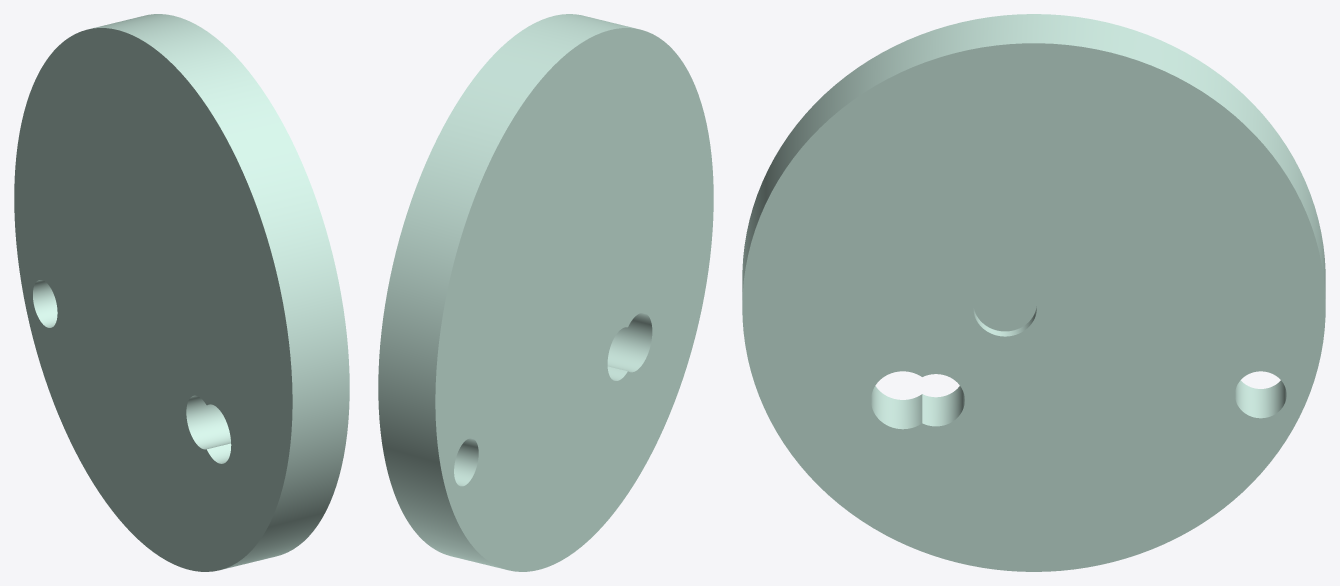
3 renders of one model, left to right at view 1: azimuth 30°, elevation 25°; view 2: azimuth 150°, elevation 25°; view 3: azimuth 270°, elevation 25°, orthographic. The views are drawn at different scales.
Parts seen in each view (by area): view 1: Renderer Node; view 2: Renderer Node; view 3: Renderer Node.
Part boxes in pixels (x1,y1,x2,y2): Renderer Node: [14, 14, 349, 571]; Renderer Node: [378, 14, 713, 571]; Renderer Node: [742, 14, 1325, 571].
Size of the model in its own units: 0.1797 by 1.52 by 1.52.
